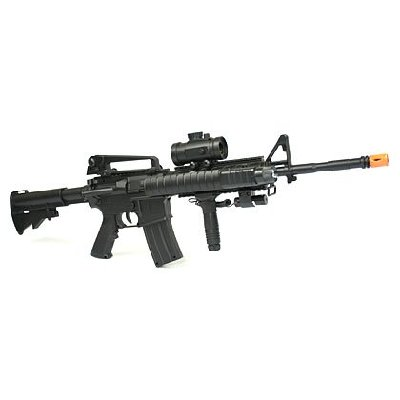rifle: (10, 100, 390, 316)
